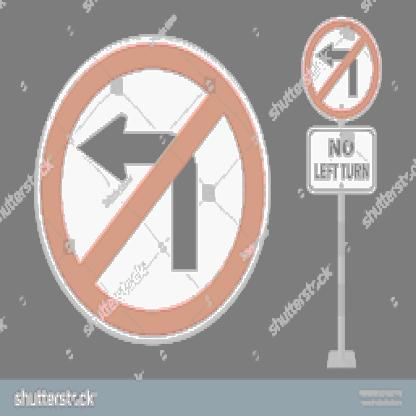No left turn: (36, 35, 262, 344), (302, 11, 382, 121)
